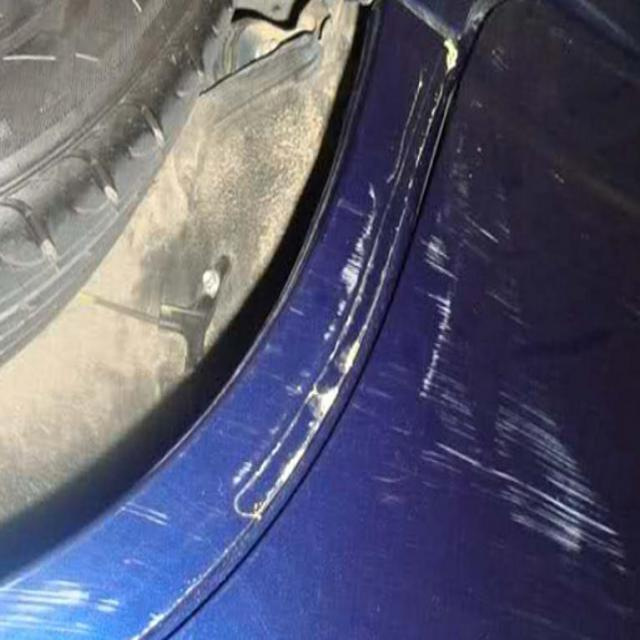scratch: (295, 154, 636, 640)
